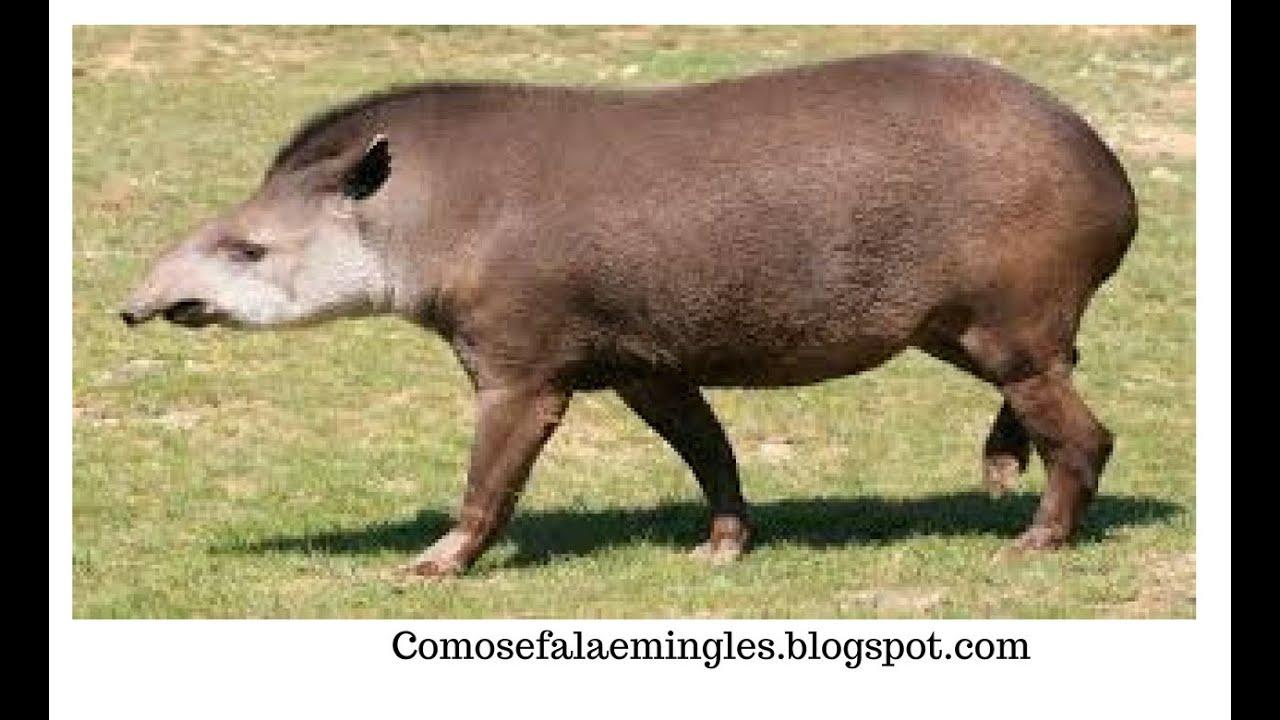Anta: (111, 46, 1148, 587)
